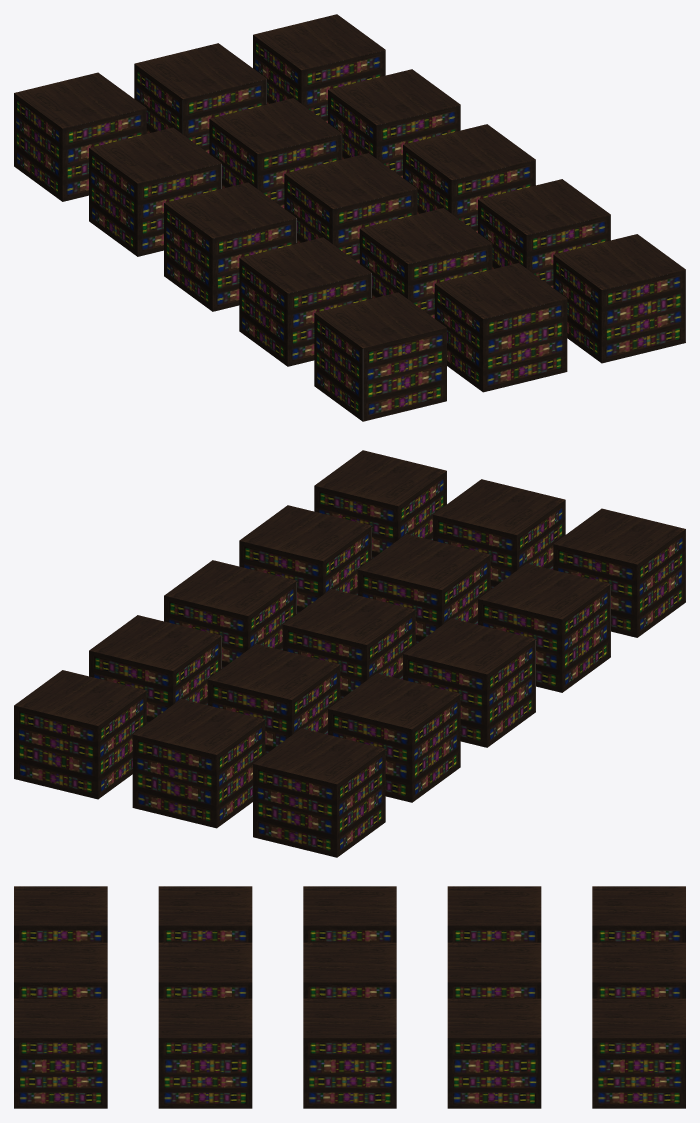
File: P_Estanteria.obj
The picture shows the model from 3 angles, top to bottom: view 1: azimuth 30°, elevation 25°; view 2: azimuth 150°, elevation 25°; view 3: azimuth 270°, elevation 25°; orthographic projection. The views are drawn at different scales.
Parts seen in each view (by area): view 1: P_Pared29_Biblio, P_Pared34_Biblio, P_Pared32_Biblio, P_Pared30_Biblio, P_Pared30_Biblio.001, P_Pared30_Biblio.003, P_Pared30_Biblio.002, P_Pared31_Biblio, P_Pared31_Biblio.001, P_Pared31_Biblio.002, P_Pared31_Biblio.003, P_Pared33_Biblio (+3 smaller); view 2: P_Pared30_Biblio.003, P_Pared31_Biblio.003, P_Pared33_Biblio.003, P_Pared30_Biblio.002, P_Pared30_Biblio.001, P_Pared29_Biblio, P_Pared30_Biblio, P_Pared34_Biblio, P_Pared31_Biblio.001, P_Pared31_Biblio.002, P_Pared31_Biblio, P_Pared33_Biblio.002 (+3 smaller); view 3: P_Pared33_Biblio, P_Pared33_Biblio.002, P_Pared32_Biblio, P_Pared33_Biblio.001, P_Pared33_Biblio.003, P_Pared30_Biblio, P_Pared30_Biblio.002, P_Pared31_Biblio, P_Pared31_Biblio.002, P_Pared29_Biblio, P_Pared34_Biblio, P_Pared30_Biblio.001 (+3 smaller).
Part boxes in pixels (x1,y1,x2,y2): P_Pared29_Biblio: (314, 292, 446, 421); P_Pared34_Biblio: (434, 263, 567, 392); P_Pared32_Biblio: (553, 234, 685, 363); P_Pared30_Biblio: (239, 237, 371, 366); P_Pared30_Biblio.001: (164, 182, 296, 311); P_Pared30_Biblio.003: (14, 72, 146, 201); P_Pared30_Biblio.002: (89, 127, 221, 256); P_Pared31_Biblio: (359, 208, 492, 318); P_Pared31_Biblio.001: (284, 153, 417, 263); P_Pared31_Biblio.002: (209, 98, 342, 208); P_Pared31_Biblio.003: (134, 43, 266, 153); P_Pared33_Biblio: (478, 179, 610, 287); P_Pared30_Biblio.003: (253, 728, 385, 857); P_Pared31_Biblio.003: (132, 699, 265, 828); P_Pared33_Biblio.003: (14, 670, 146, 799); P_Pared30_Biblio.002: (328, 673, 460, 802); P_Pared30_Biblio.001: (403, 618, 535, 747); P_Pared29_Biblio: (553, 508, 685, 637); P_Pared30_Biblio: (478, 563, 610, 692); P_Pared34_Biblio: (433, 479, 565, 589); P_Pared31_Biblio.001: (282, 589, 415, 699); P_Pared31_Biblio.002: (207, 644, 340, 754); P_Pared31_Biblio: (357, 534, 490, 644); P_Pared33_Biblio.002: (89, 615, 221, 723); P_Pared33_Biblio: (158, 998, 252, 1108); P_Pared33_Biblio.002: (447, 998, 541, 1108); P_Pared32_Biblio: (14, 998, 107, 1108); P_Pared33_Biblio.001: (303, 998, 396, 1108); P_Pared33_Biblio.003: (592, 998, 685, 1108); P_Pared30_Biblio: (158, 886, 252, 942); P_Pared30_Biblio.002: (447, 886, 541, 942); P_Pared31_Biblio: (158, 942, 252, 998); P_Pared31_Biblio.002: (447, 942, 541, 998); P_Pared29_Biblio: (14, 886, 107, 942); P_Pared34_Biblio: (14, 942, 107, 998); P_Pared30_Biblio.001: (303, 886, 396, 942).
Size of the model in its own units: 23.93 by 5.2 by 44.75.
